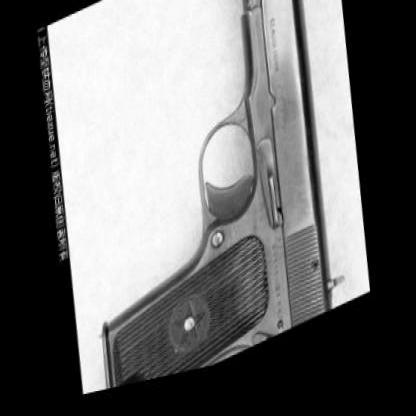pistol: (57, 0, 356, 399)
